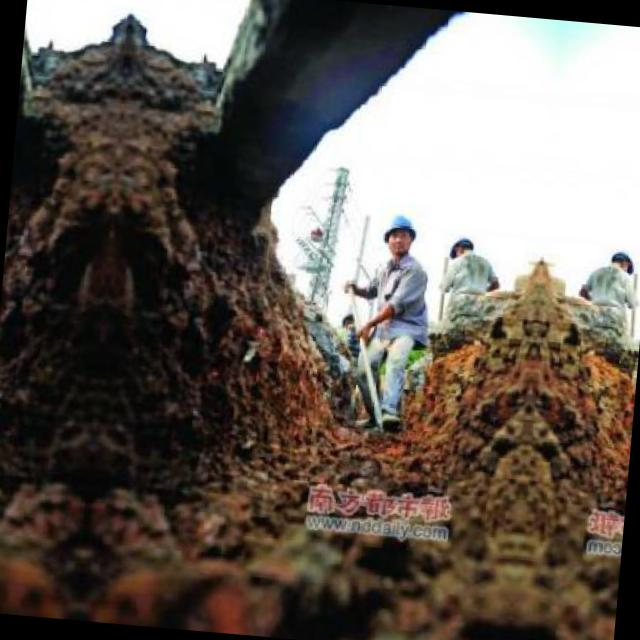helmet: (377, 205, 417, 263), (601, 240, 639, 286), (442, 225, 479, 272)
